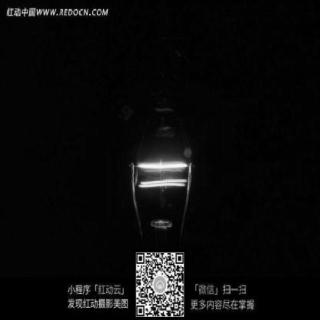other: (128, 136, 196, 210)
